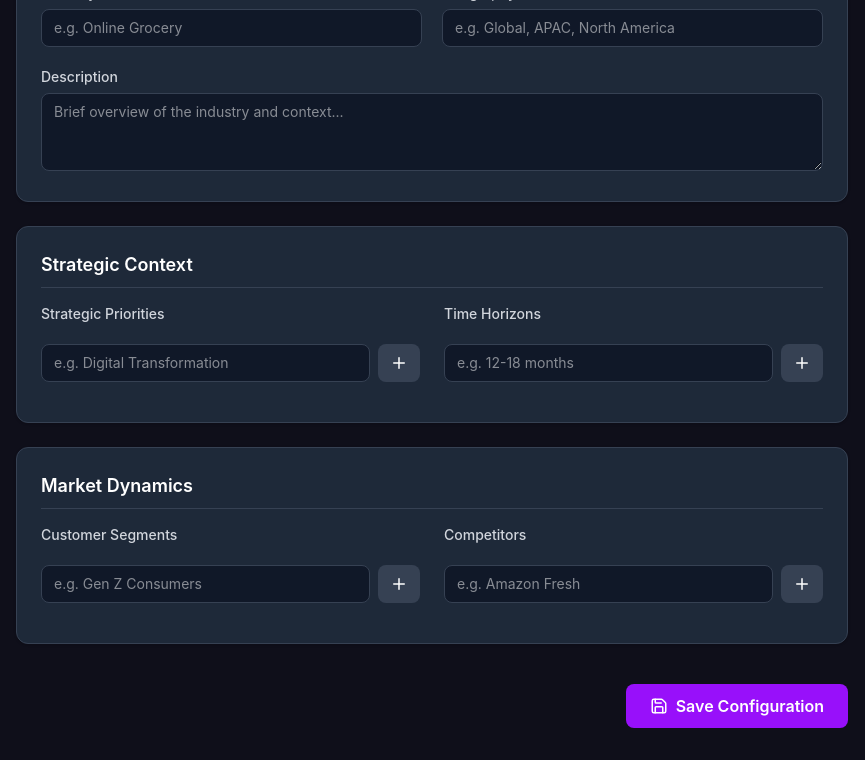
Scenario: IndustrySetup component › allows adding a competitor
(page scrolled)
In the field named "add-Competitors": (608, 584) [444,565,773,603], type "Competitor X"
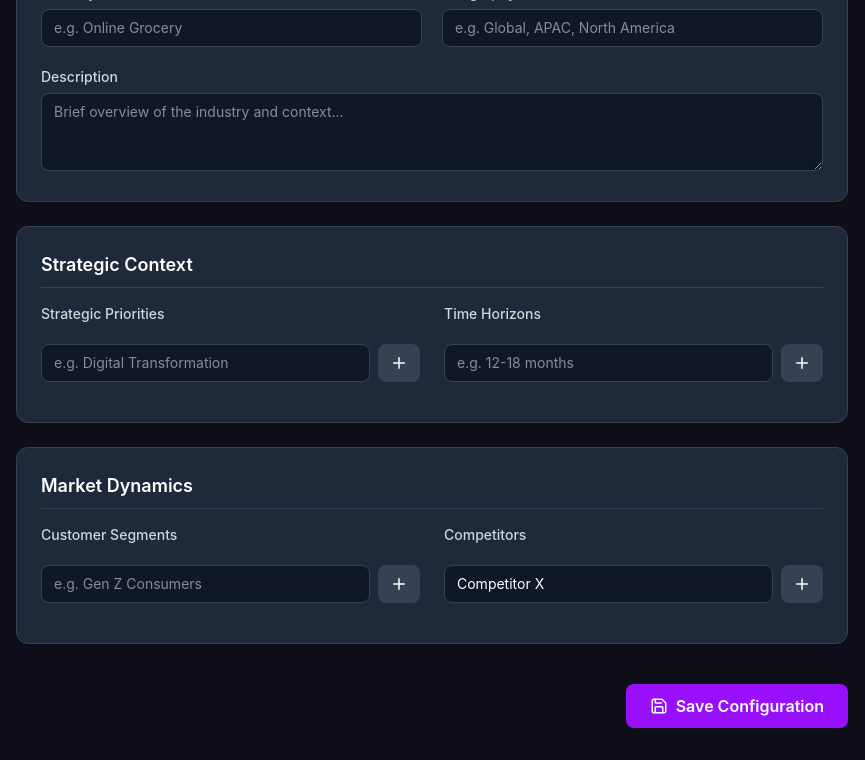
Click the button named "add-Competitors-button": (802, 584) [781,565,823,603]
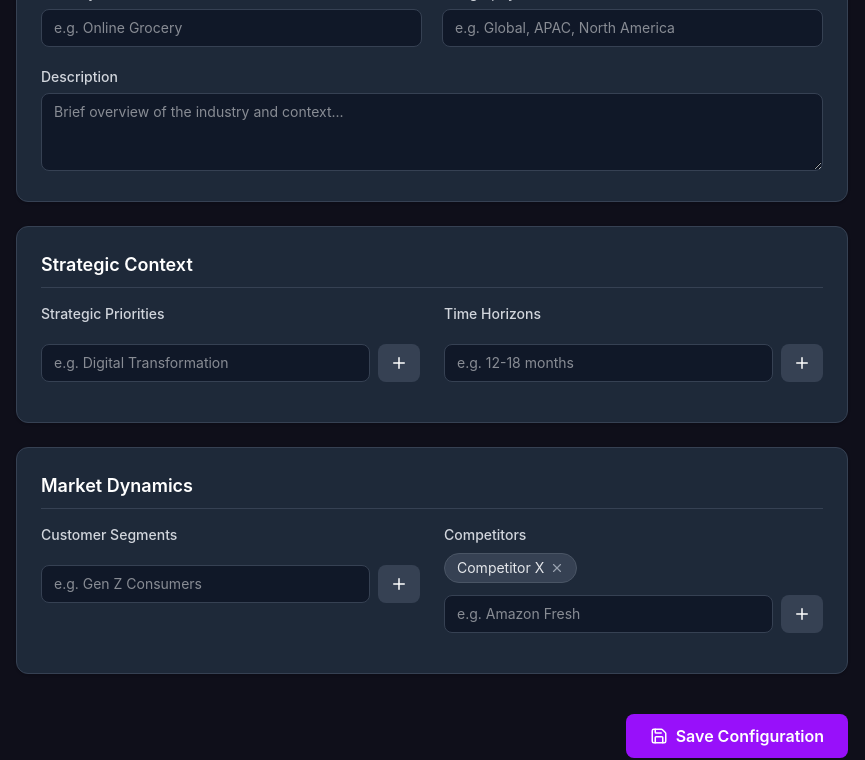
Check: the text "Competitor X" is shown, box [444,553,577,583]
